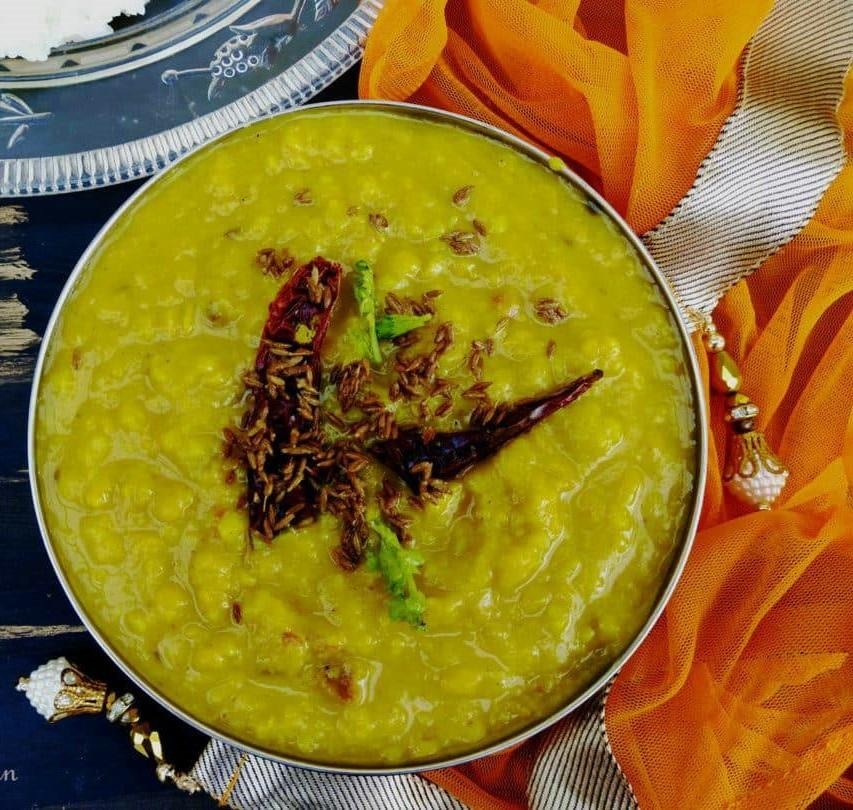Dal: (37, 112, 692, 766)
